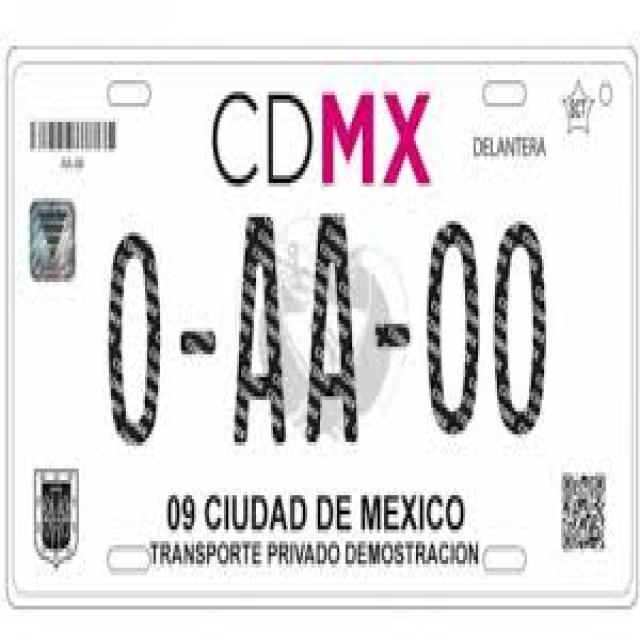placa: (90, 188, 616, 472)
